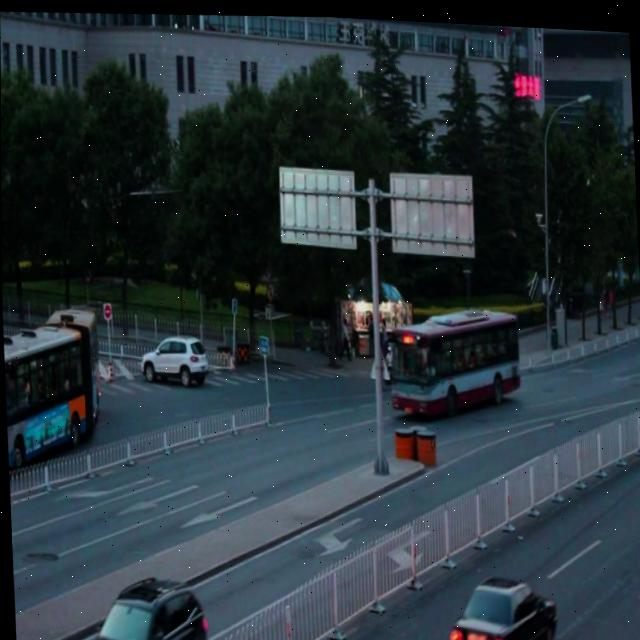car: (59, 564, 208, 640), (444, 558, 558, 640), (139, 329, 208, 386)
van: (2, 298, 102, 475), (385, 292, 521, 416)
